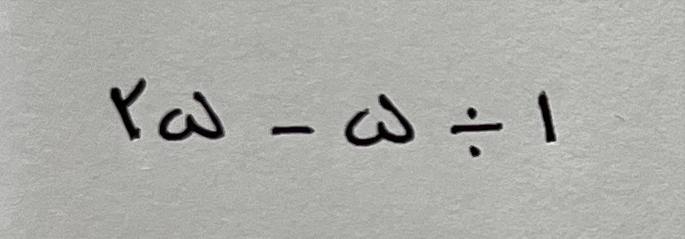character: (344, 92, 415, 145), (158, 92, 224, 142), (451, 107, 503, 158), (110, 78, 146, 140), (536, 90, 557, 143), (270, 124, 312, 135)
